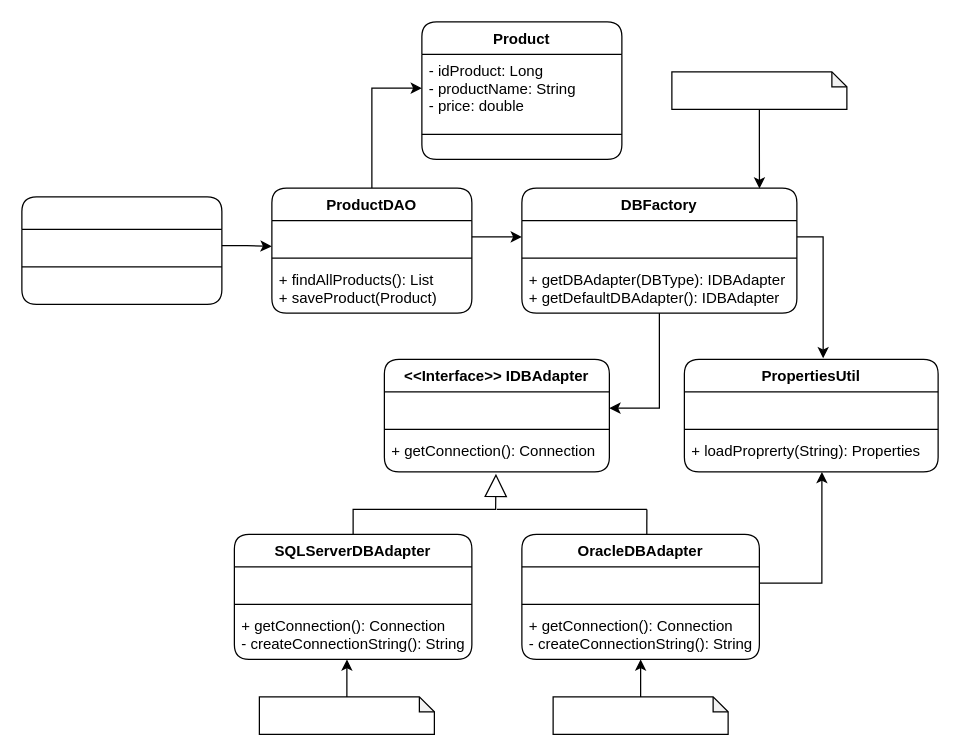
This 960x756 diagram has some shape labels left out. The shapes that lost their labels are listed below. From the top down, each one's centre as x and y in pixels, then its label:
At (759,90): "DBFactory.properties".
At (121,250): "FactoryMain".
At (346,715): "DBSQLServer.properties".
At (640,715): "DBOracle.properties".
